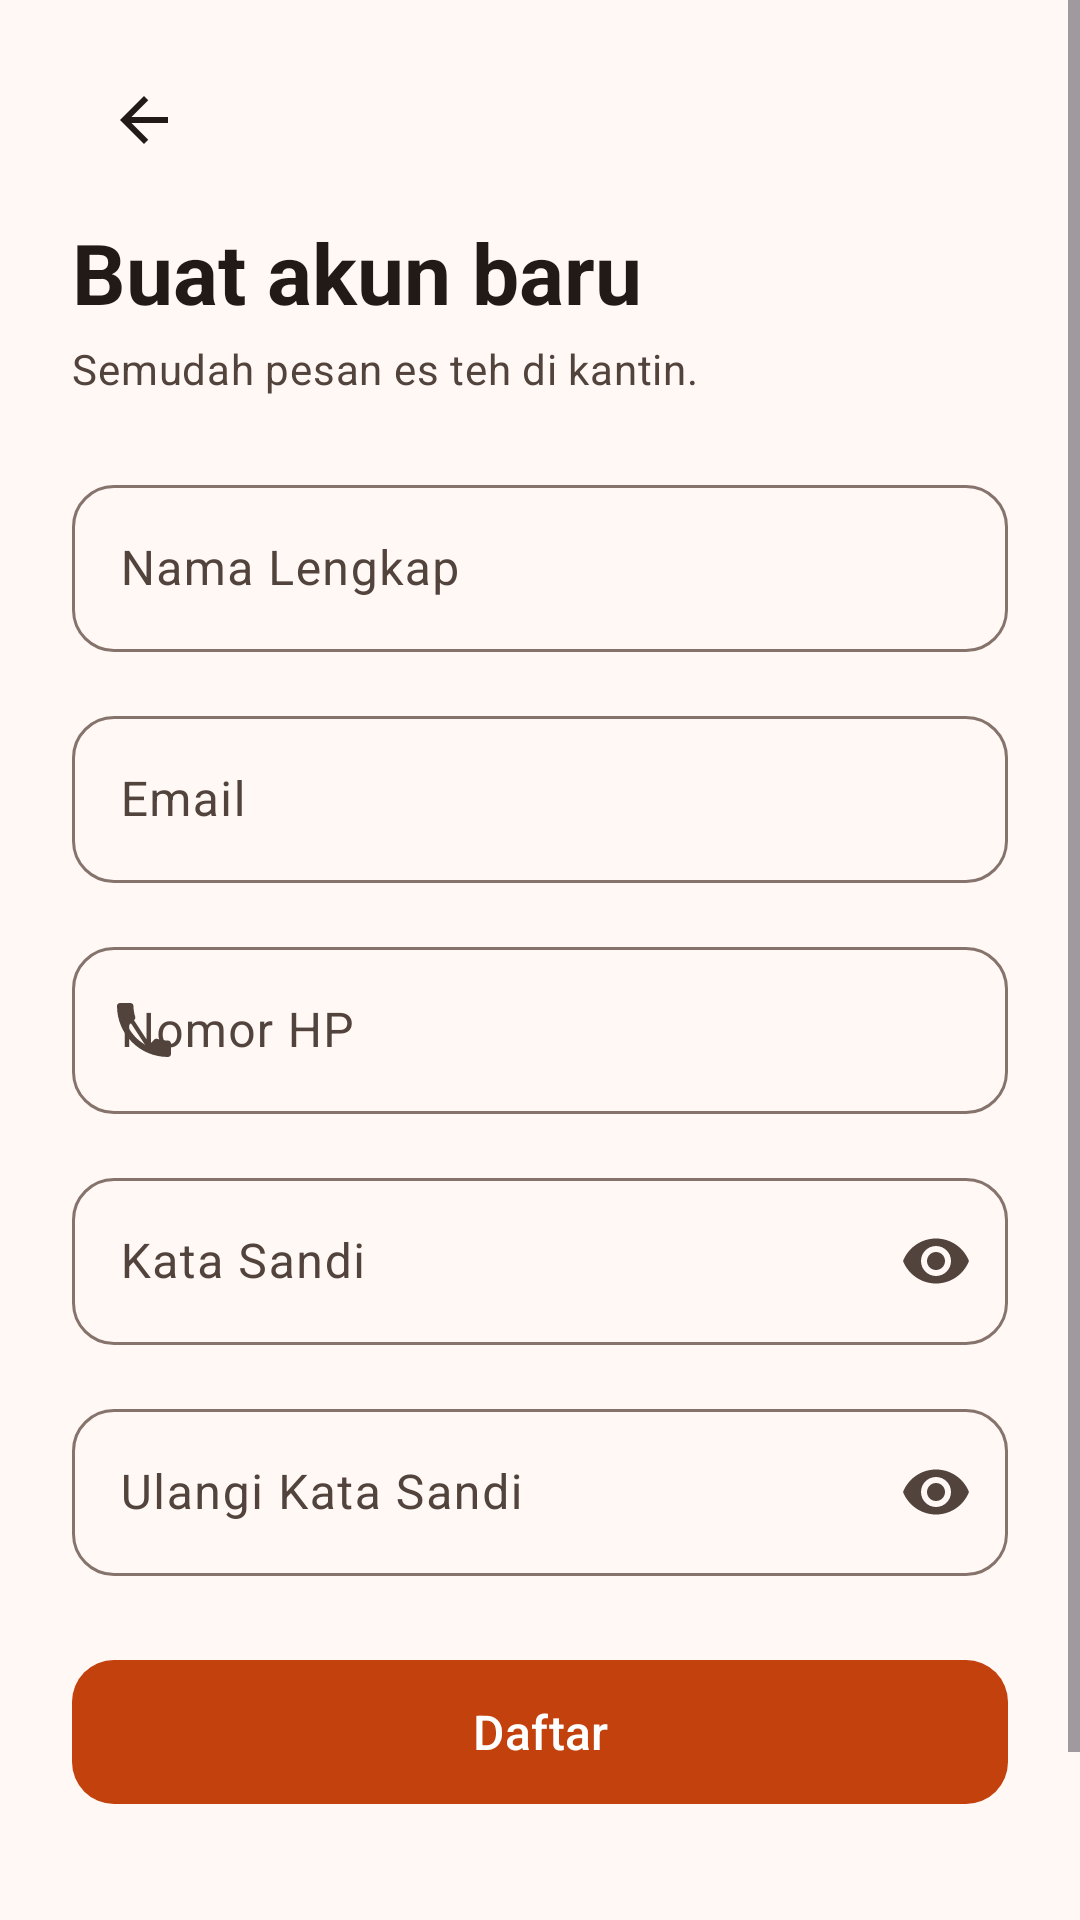

Screen size 1080 × 1920. Icon name, then its center in pixels as (x,y):
Batal: (144,120)
